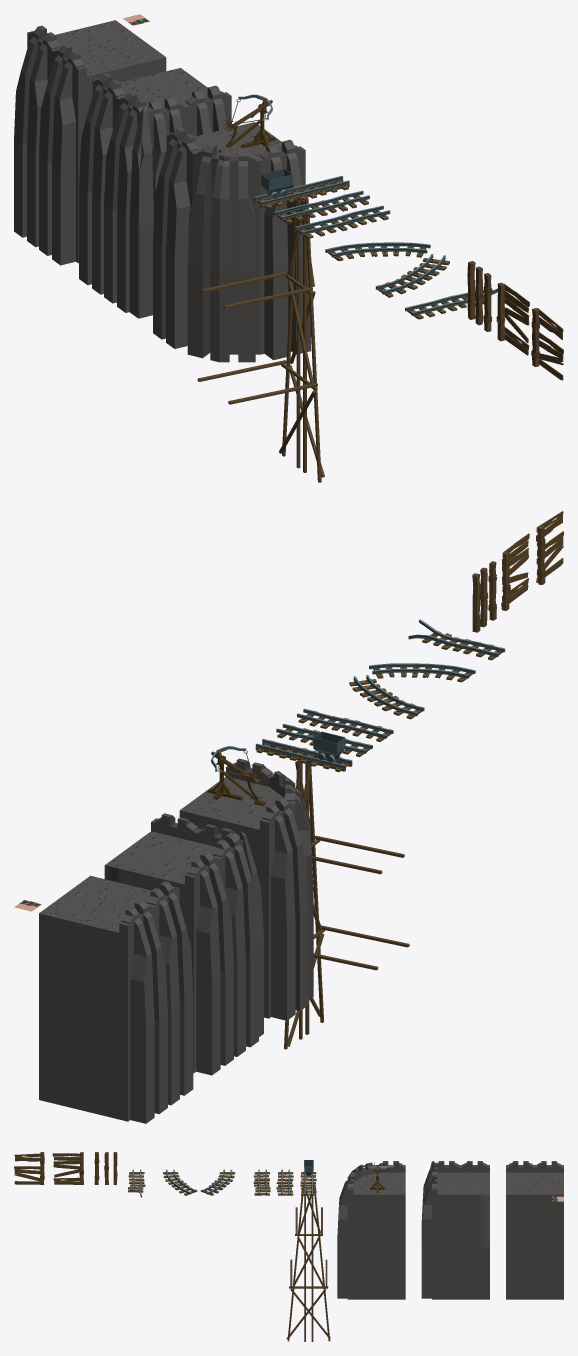
File: Mountains_props.fbx
The picture shows the model from 3 angles, top to bottom: view 1: azimuth 30°, elevation 25°; view 2: azimuth 150°, elevation 25°; view 3: azimuth 270°, elevation 25°; orthographic projection. The views are drawn at different scales.
Parts seen in each view (by area): view 1: Fortification_Edge_02, Fortification_Edge_01, Fortification_Edge_02_Ext, Fortification_Line_01, Fortification_Edge_01_Ext, Fortification_Line_01_Ext, RailBridge_Section3_01, RailBridge_Section2_01, ShaftWall_01, RailBridge_Section1_01, ShaftWall_02, MiningRails_Line_03 (+7 smaller); view 2: Fortification_Line_01, Fortification_Line_01_Ext, Fortification_Edge_01, Fortification_Edge_02, Fortification_Edge_01_Ext, Fortification_Edge_02_Ext, ShaftWall_01, ShaftWall_02, Crossbow_stationary, MiningRails_Turn45_01_L, MiningRails_Line_03, MiningRails_Turn45_01_R (+6 smaller); view 3: Fortification_Edge_01, Fortification_Edge_02, Fortification_Line_01, Fortification_Edge_02_Ext, Fortification_Edge_01_Ext, Fortification_Line_01_Ext, RailBridge_Section3_01, ShaftWall_01, RailBridge_Section2_01, ShaftWall_02, RailBridge_Section1_01, MiningRails_Turn45_01_R (+5 smaller).
Boxes of the visible parts, <box> form: Fortification_Edge_02: <box>153,122,309,269</box>; Fortification_Edge_01: <box>79,68,231,226</box>; Fortification_Edge_02_Ext: <box>153,241,310,362</box>; Fortification_Line_01: <box>14,20,166,173</box>; Fortification_Edge_01_Ext: <box>79,187,153,318</box>; Fortification_Line_01_Ext: <box>14,139,79,265</box>; RailBridge_Section3_01: <box>279,364,324,482</box>; RailBridge_Section2_01: <box>285,275,317,387</box>; ShaftWall_01: <box>496,282,529,355</box>; RailBridge_Section1_01: <box>254,179,349,291</box>; ShaftWall_02: <box>531,308,563,380</box>; MiningRails_Line_03: <box>294,205,390,238</box>; Fortification_Line_01: <box>39,875,192,1030</box>; Fortification_Line_01_Ext: <box>39,996,193,1123</box>; Fortification_Edge_01: <box>104,813,263,982</box>; Fortification_Edge_02: <box>179,758,313,927</box>; Fortification_Edge_01_Ext: <box>192,941,263,1075</box>; Fortification_Edge_02_Ext: <box>263,893,313,1020</box>; ShaftWall_01: <box>501,533,529,610</box>; ShaftWall_02: <box>536,511,563,584</box>; Crossbow_stationary: <box>207,746,265,805</box>; MiningRails_Turn45_01_L: <box>369,663,475,682</box>; MiningRails_Line_03: <box>297,708,393,741</box>; MiningRails_Turn45_01_R: <box>349,675,424,719</box>; Fortification_Edge_01: <box>421,1161,489,1247</box>; Fortification_Edge_02: <box>337,1161,405,1247</box>; Fortification_Line_01: <box>506,1161,563,1247</box>; Fortification_Edge_02_Ext: <box>337,1240,405,1299</box>; Fortification_Edge_01_Ext: <box>421,1246,489,1299</box>; Fortification_Line_01_Ext: <box>506,1247,563,1299</box>; RailBridge_Section3_01: <box>286,1286,330,1341</box>; ShaftWall_01: <box>52,1152,83,1184</box>; RailBridge_Section2_01: <box>292,1234,325,1289</box>; ShaftWall_02: <box>14,1152,44,1184</box>; RailBridge_Section1_01: <box>297,1174,320,1236</box>; MiningRails_Turn45_01_R: <box>200,1169,235,1195</box>.
Size of the model in its own units: 855 by 1802 by 4749.
